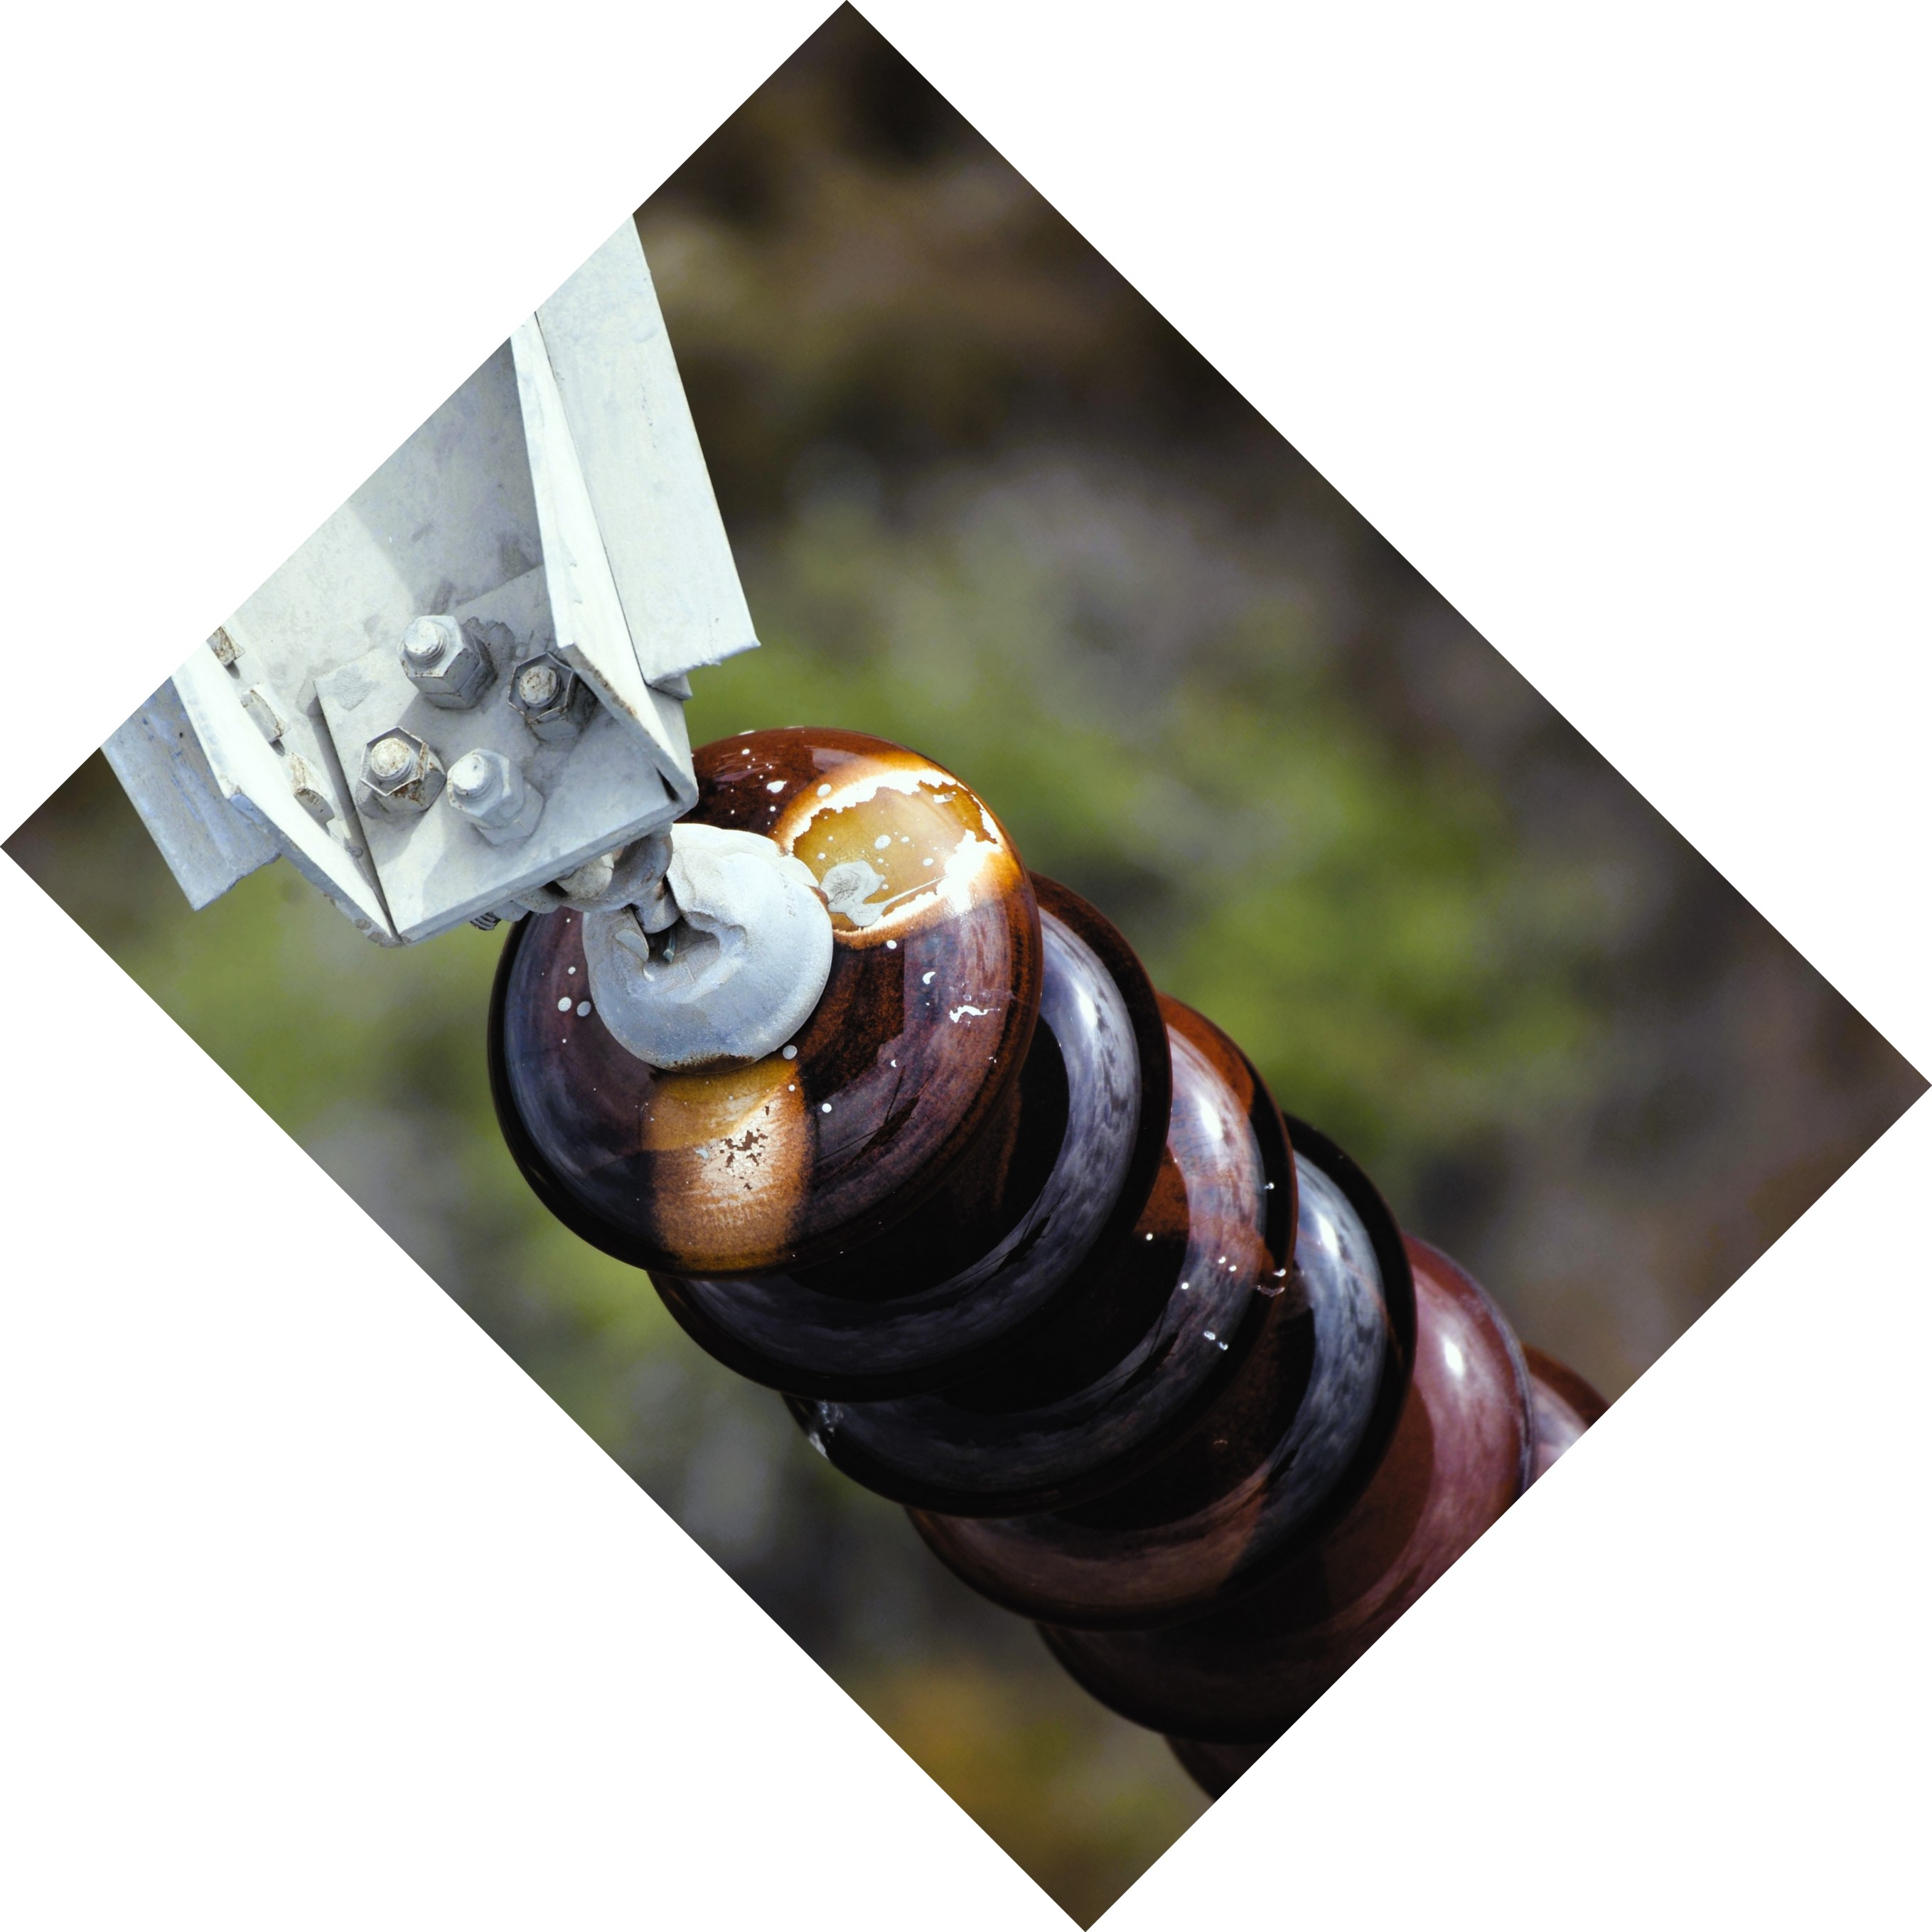Insulator flashover: (471, 715, 1046, 1288)
